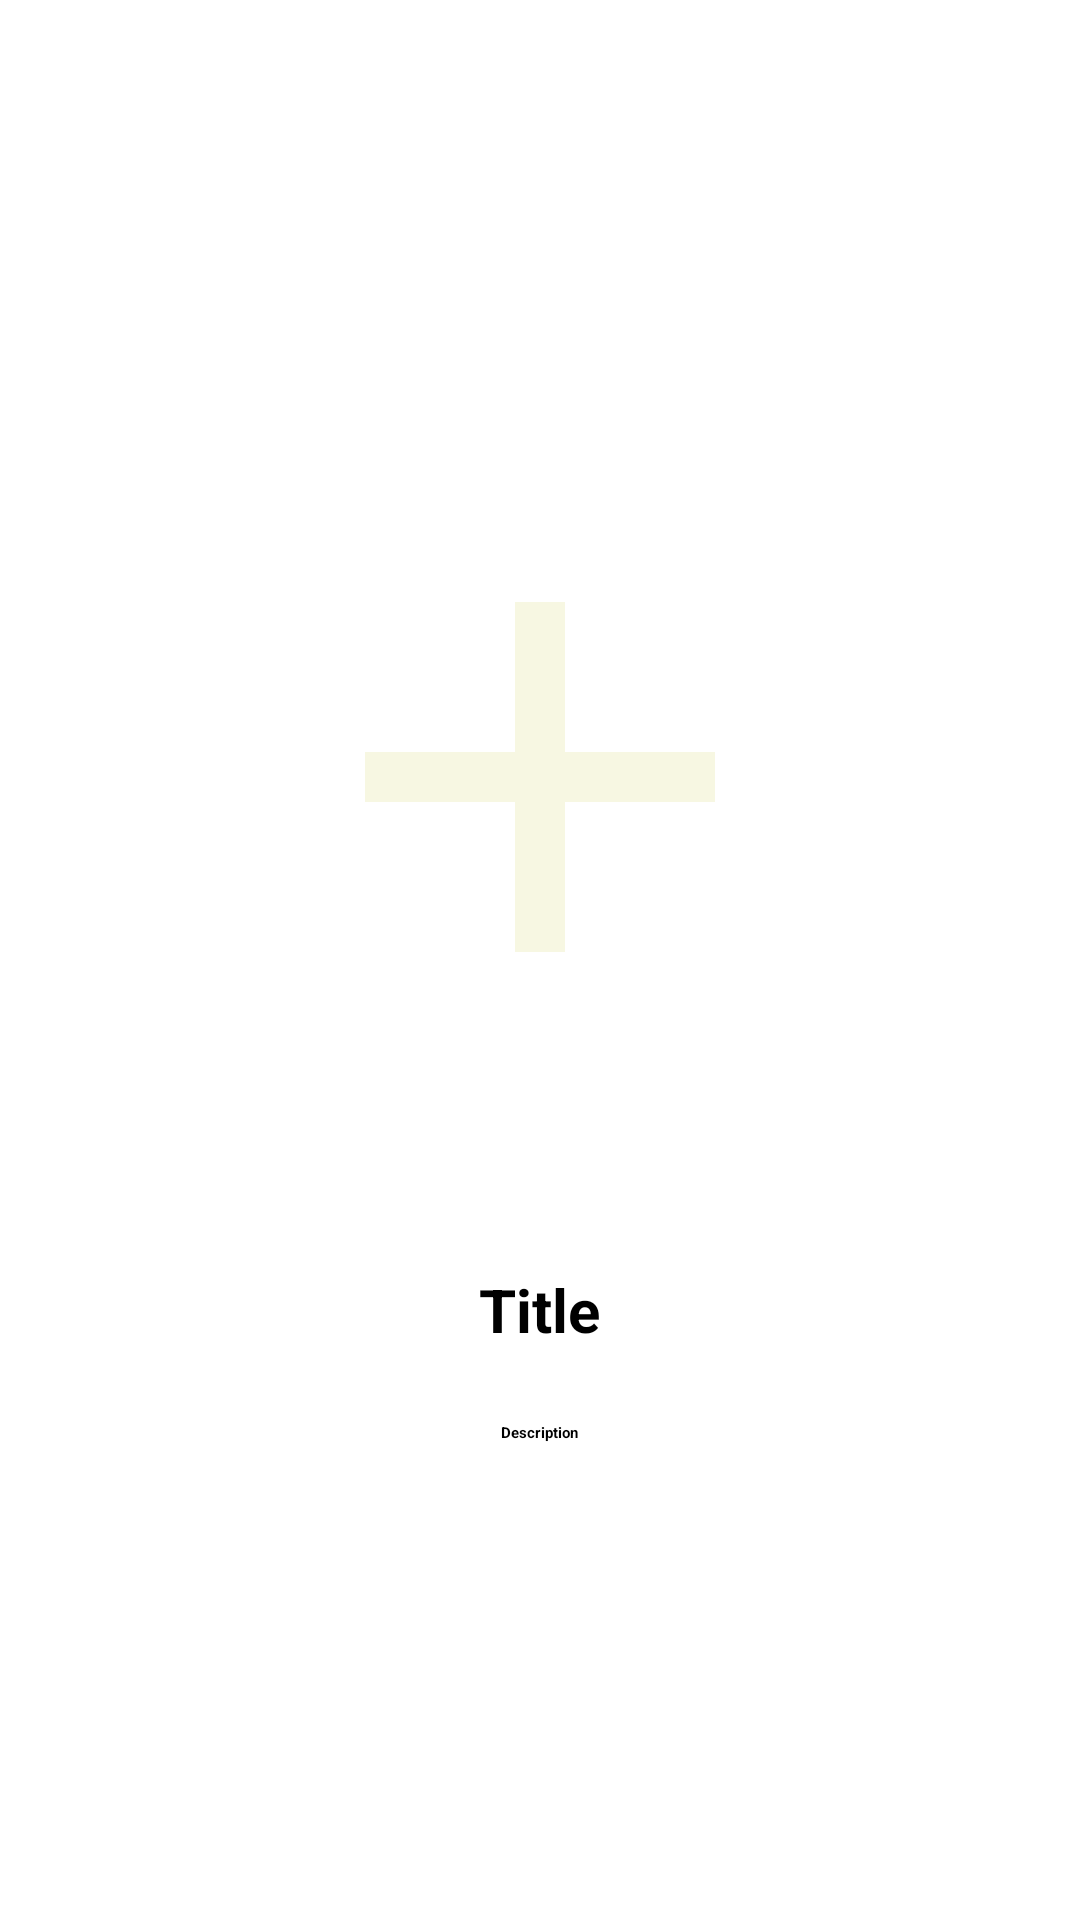

Point at icon controls on the screen. Image size 1080 x 1920, points as point (x, y).
add: point (540, 777)
